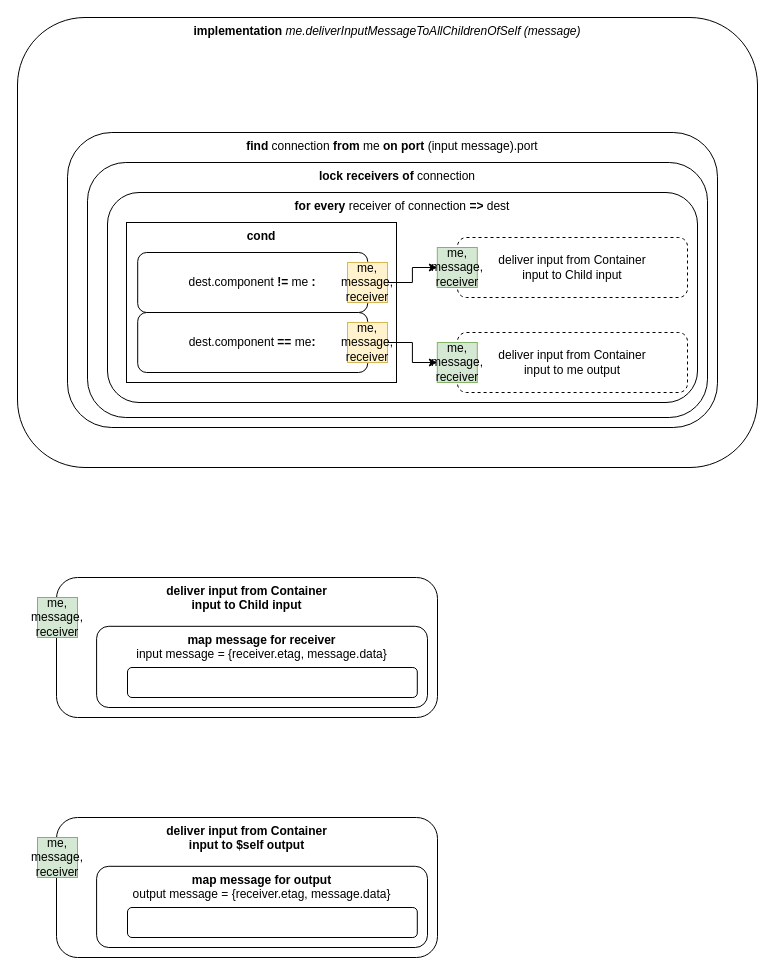
The diagram is 775 pixels wide and 975 high, and some of its shapes have lost their labels. Each missing label, with the centre of its shape:
me.enqueOutputMessage (output message): the point at 271,922
receiver.enqueInputMessage (input message): the point at 271,682
